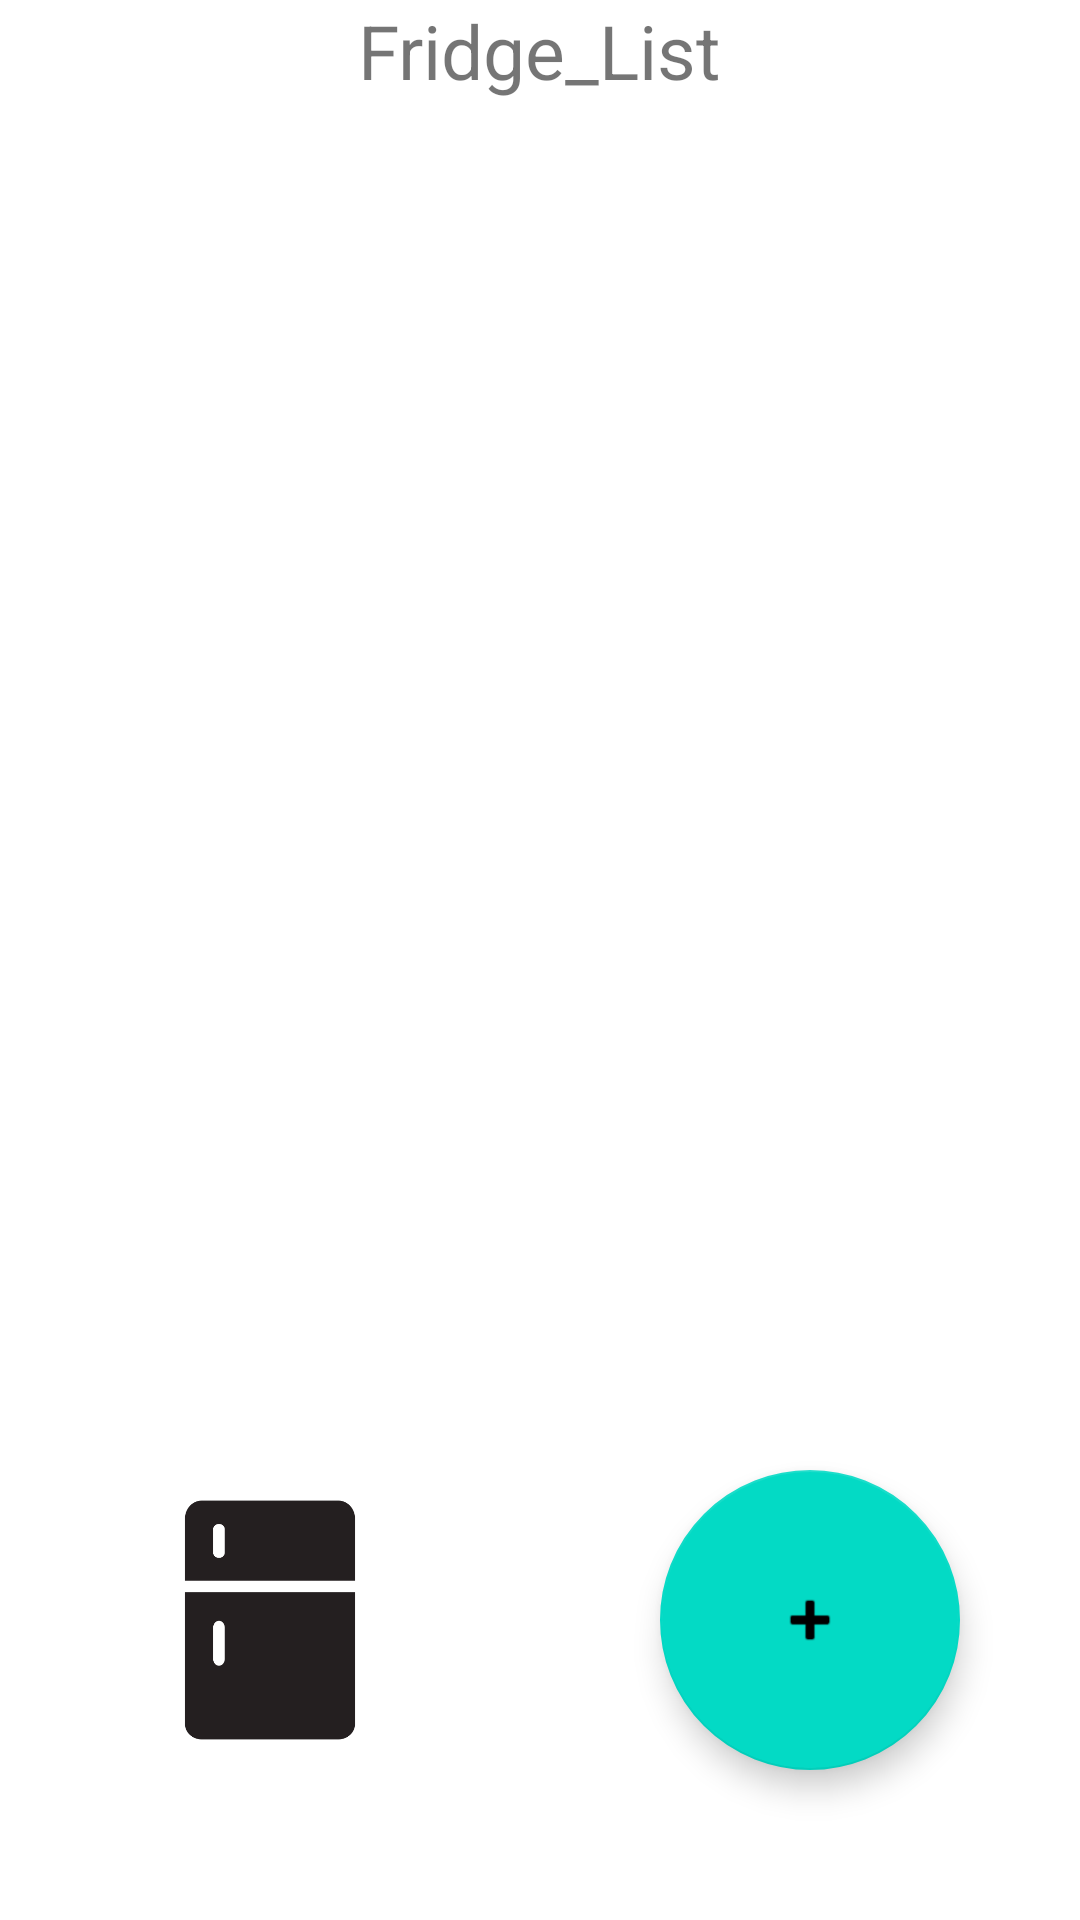

Icon click points for this 1080x1920 phone screenshot, format [x,y]:
add: [810,1620]
iconfinder refrigerator: [270,1620]
